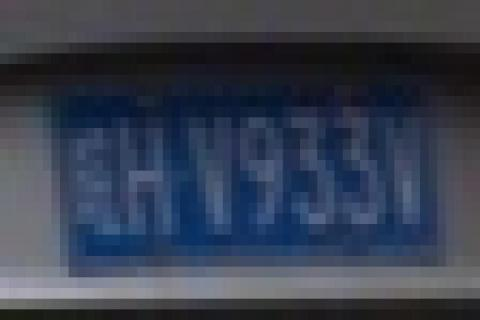LicensePlate: (51, 95, 440, 259)
